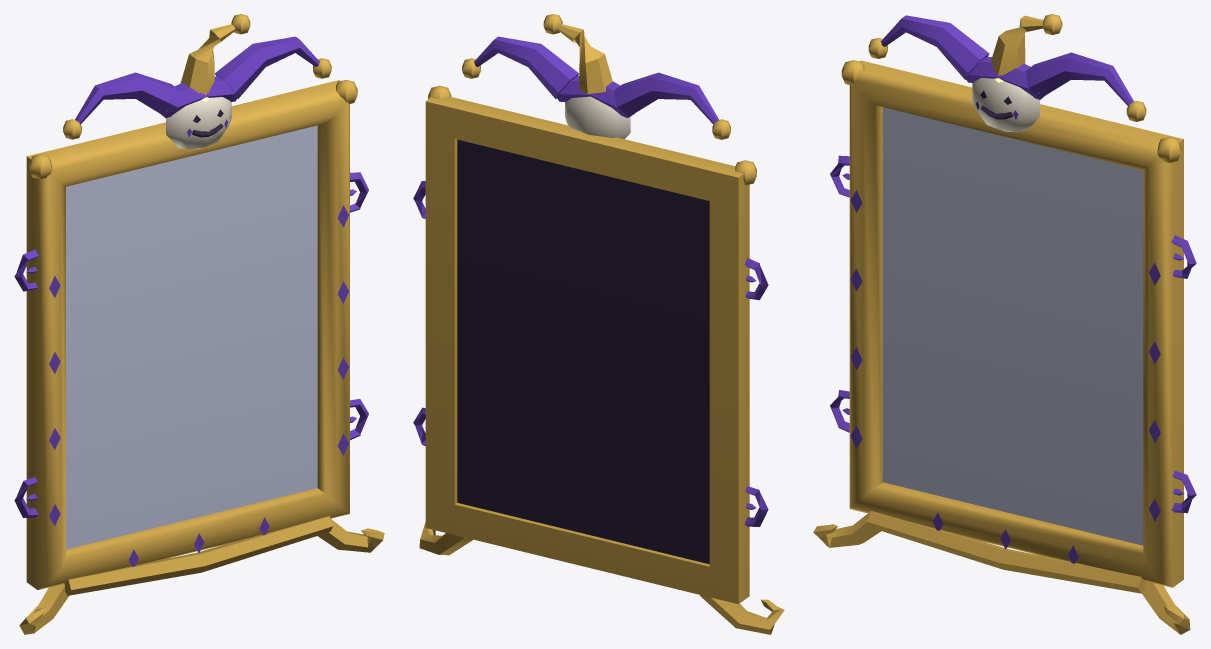
Rendered from joker-mirror.glb.
3 renders of one model, left to right at view 1: azimuth 30°, elevation 25°; view 2: azimuth 150°, elevation 25°; view 3: azimuth 330°, elevation 25°, orthographic. The views are drawn at different scales.
Visible parts, largest first — view 1: glass, frame; view 2: frame; view 3: glass, frame.
Part boxes in pixels (<box>): glass: <box>66,125,317,549</box>; frame: <box>14,14,384,634</box>; frame: <box>413,14,784,634</box>; glass: <box>883,107,1143,545</box>; frame: <box>813,14,1196,634</box>.
Size of the model in its own units: 0.9827 by 1.49 by 0.1288.
